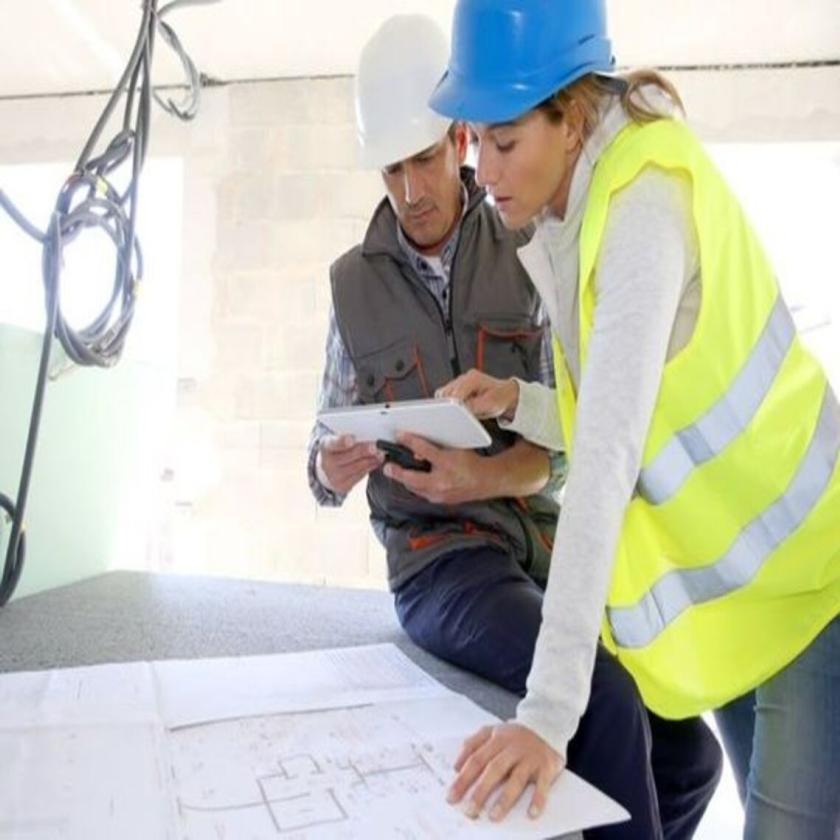Con_casco: (438, 0, 615, 231), (349, 11, 470, 255)
